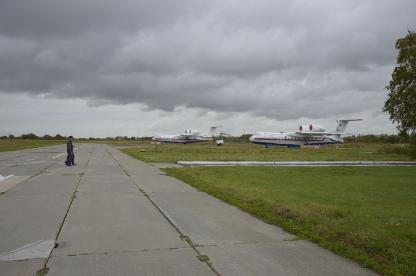B52: (249, 117, 364, 147), (152, 125, 223, 143)
